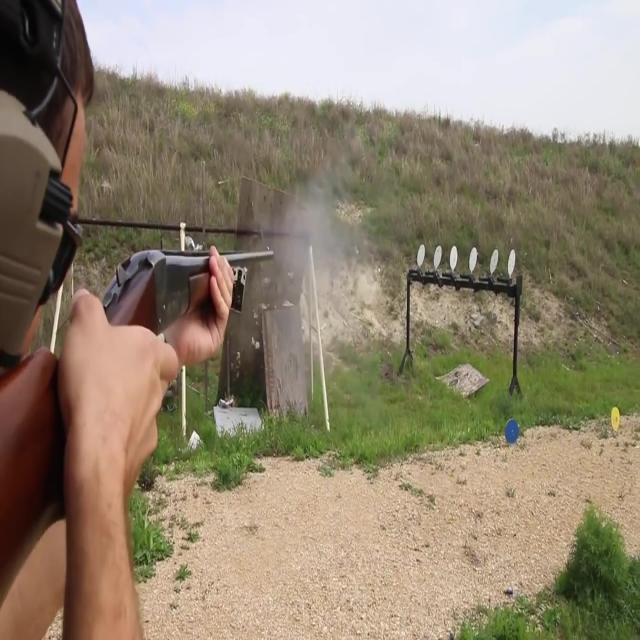Weapon: (0, 224, 286, 532)
